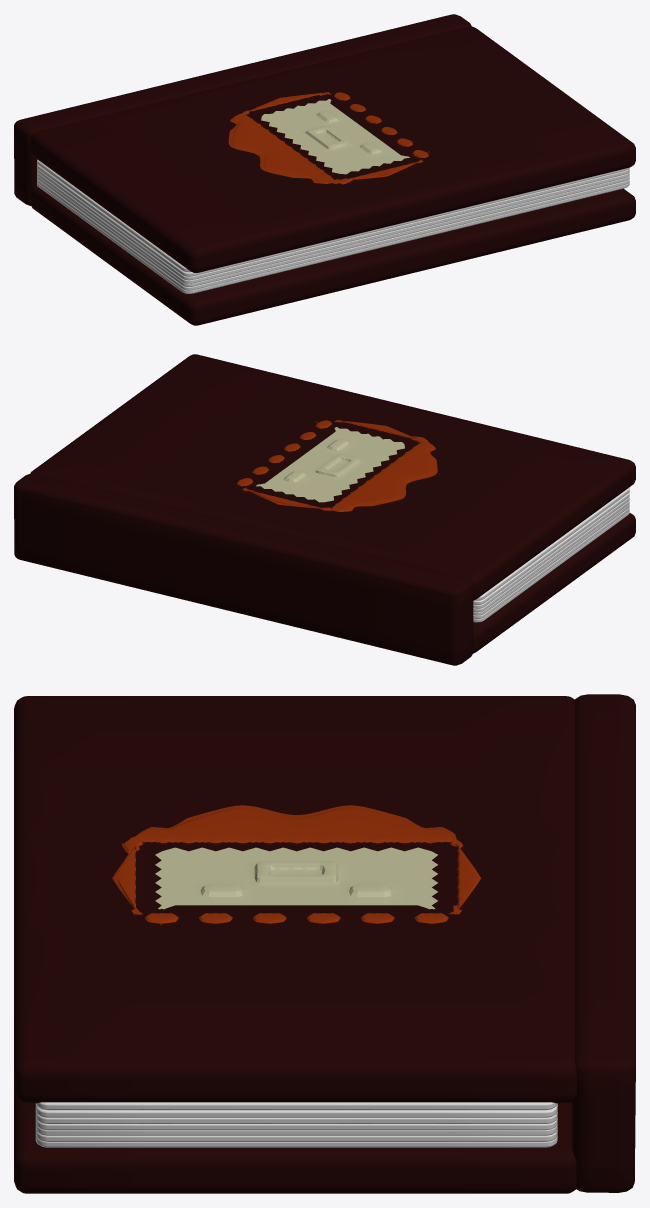
File: hintBook.FBX
3 views of the same model, one above another, from view 1: azimuth 30°, elevation 25°; view 2: azimuth 150°, elevation 25°; view 3: azimuth 270°, elevation 25° (orthographic). The views are drawn at different scales.
Visible parts, largest first — view 1: ChamferBox003, ChamferBox002, ChamferBox001, ChamferBox009, ChamferBox006, ChamferBox005, ChamferBox004, ChamferBox007, ChamferBox008, ChamferBox010; view 2: ChamferBox003, ChamferBox001, ChamferBox002, ChamferBox010, ChamferBox008, ChamferBox009, ChamferBox006, ChamferBox005, ChamferBox004, ChamferBox007; view 3: ChamferBox003, ChamferBox001, ChamferBox002, ChamferBox010, ChamferBox008, ChamferBox009, ChamferBox006, ChamferBox005, ChamferBox004, ChamferBox007.
Part boxes in pixels (x1=…): ChamferBox003: x1=30, y1=26, x2=635, y2=272; ChamferBox002: x1=30, y1=185, x2=635, y2=325; ChamferBox001: x1=14, y1=14, x2=471, y2=206; ChamferBox009: x1=37, y1=168, x2=629, y2=280; ChamferBox006: x1=37, y1=172, x2=629, y2=283; ChamferBox005: x1=37, y1=179, x2=629, y2=290; ChamferBox004: x1=37, y1=182, x2=629, y2=293; ChamferBox007: x1=37, y1=175, x2=629, y2=286; ChamferBox008: x1=37, y1=164, x2=629, y2=276; ChamferBox010: x1=37, y1=159, x2=191, y2=272; ChamferBox003: x1=30, y1=354, x2=635, y2=600; ChamferBox001: x1=14, y1=473, x2=473, y2=665; ChamferBox002: x1=473, y1=513, x2=635, y2=653; ChamferBox010: x1=475, y1=488, x2=629, y2=600; ChamferBox008: x1=473, y1=492, x2=629, y2=604; ChamferBox009: x1=473, y1=496, x2=629, y2=608; ChamferBox006: x1=473, y1=500, x2=629, y2=612; ChamferBox005: x1=473, y1=507, x2=629, y2=618; ChamferBox004: x1=473, y1=510, x2=629, y2=622; ChamferBox007: x1=473, y1=504, x2=629, y2=615; ChamferBox003: x1=14, y1=696, x2=576, y2=1103; ChamferBox001: x1=572, y1=694, x2=635, y2=1192; ChamferBox002: x1=14, y1=1091, x2=576, y2=1193; ChamferBox010: x1=36, y1=1102, x2=557, y2=1110; ChamferBox008: x1=35, y1=1103, x2=557, y2=1117; ChamferBox009: x1=35, y1=1111, x2=557, y2=1123; ChamferBox006: x1=35, y1=1117, x2=557, y2=1130; ChamferBox005: x1=35, y1=1129, x2=557, y2=1141; ChamferBox004: x1=35, y1=1135, x2=557, y2=1147; ChamferBox007: x1=35, y1=1124, x2=557, y2=1135.
Bounding box in the file's own units: 28.04 × 4.8 × 19.68.
